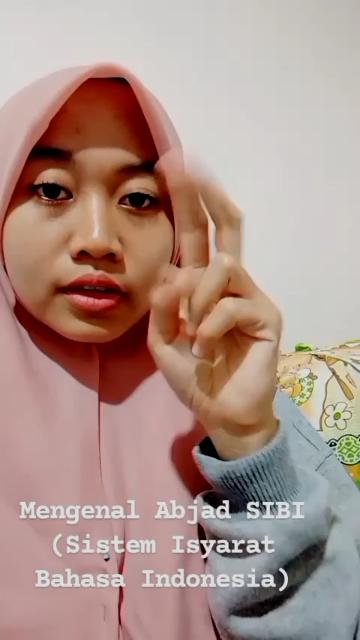U: (144, 142, 292, 424)
